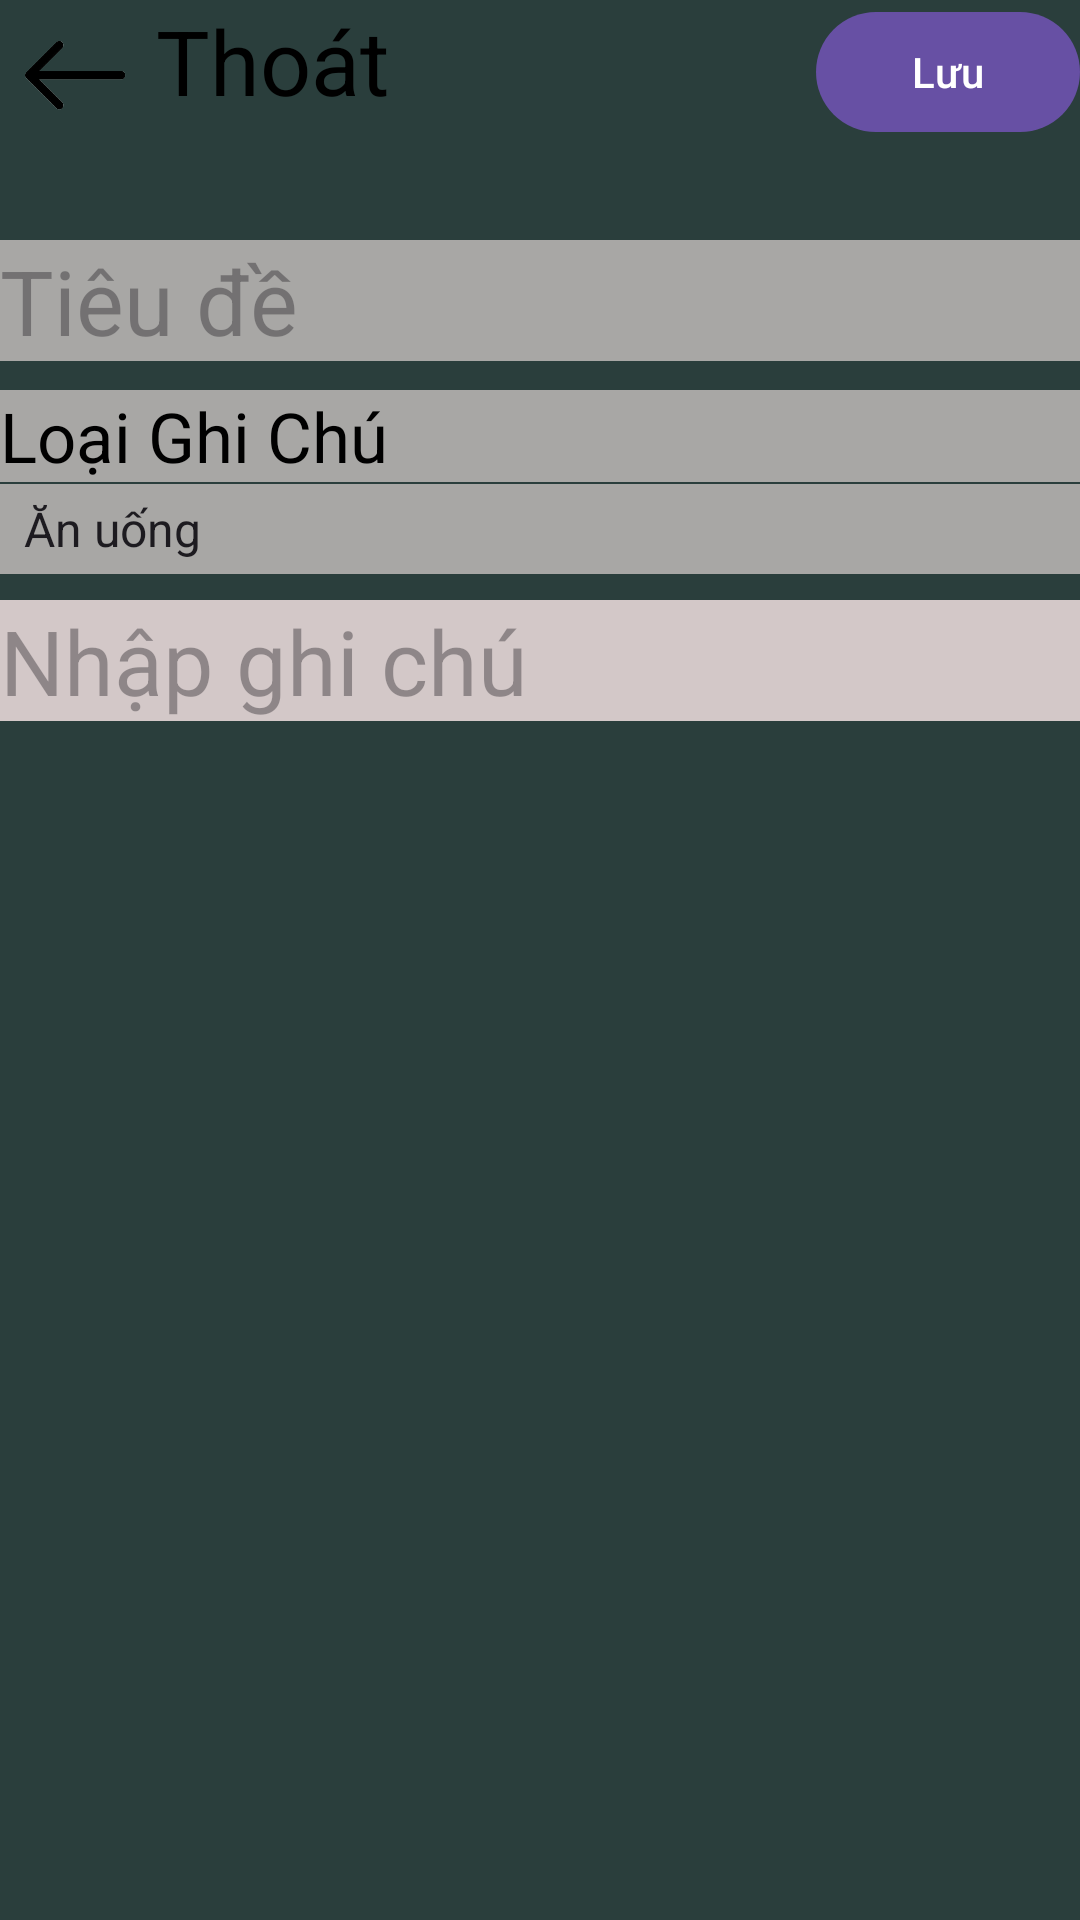

Point at icon controls on the screen. Image size 1080w x 1920h, points as [x,y].
thoat: [75,75]
